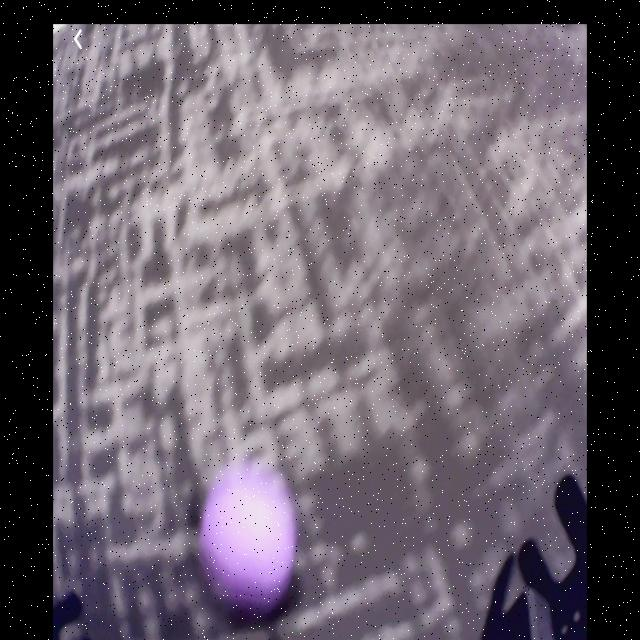ball: (201, 464, 298, 614)
